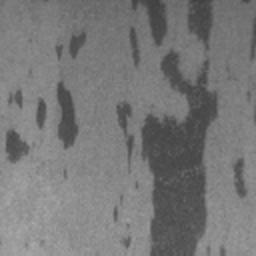Red iron sheet: (115, 0, 219, 256), (8, 79, 79, 150), (54, 29, 87, 60), (5, 128, 28, 163), (233, 157, 247, 198), (250, 15, 256, 59), (113, 209, 118, 223), (220, 246, 227, 256)
